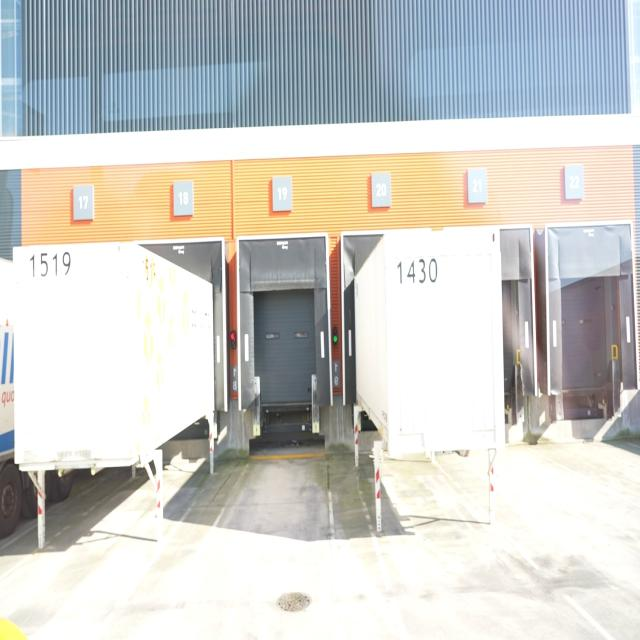Code: (26, 244, 76, 283), (394, 253, 443, 290)
